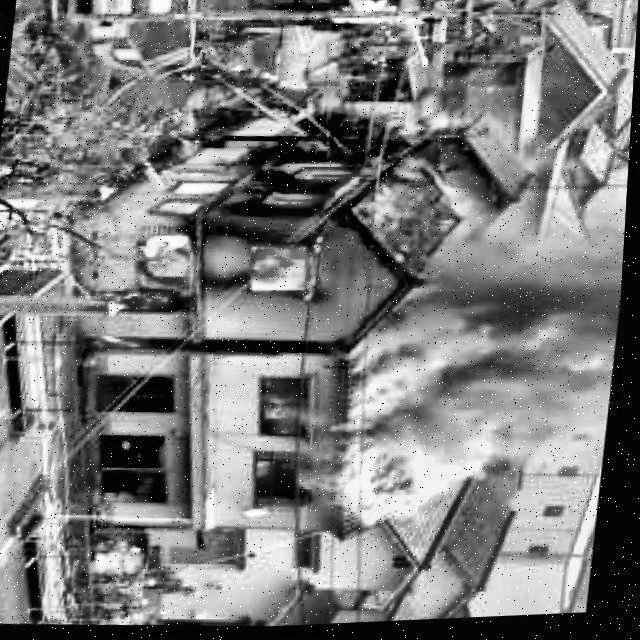Fire: (118, 125, 457, 332), (410, 350, 512, 452), (257, 374, 318, 512)
Smoke: (365, 218, 629, 524)
